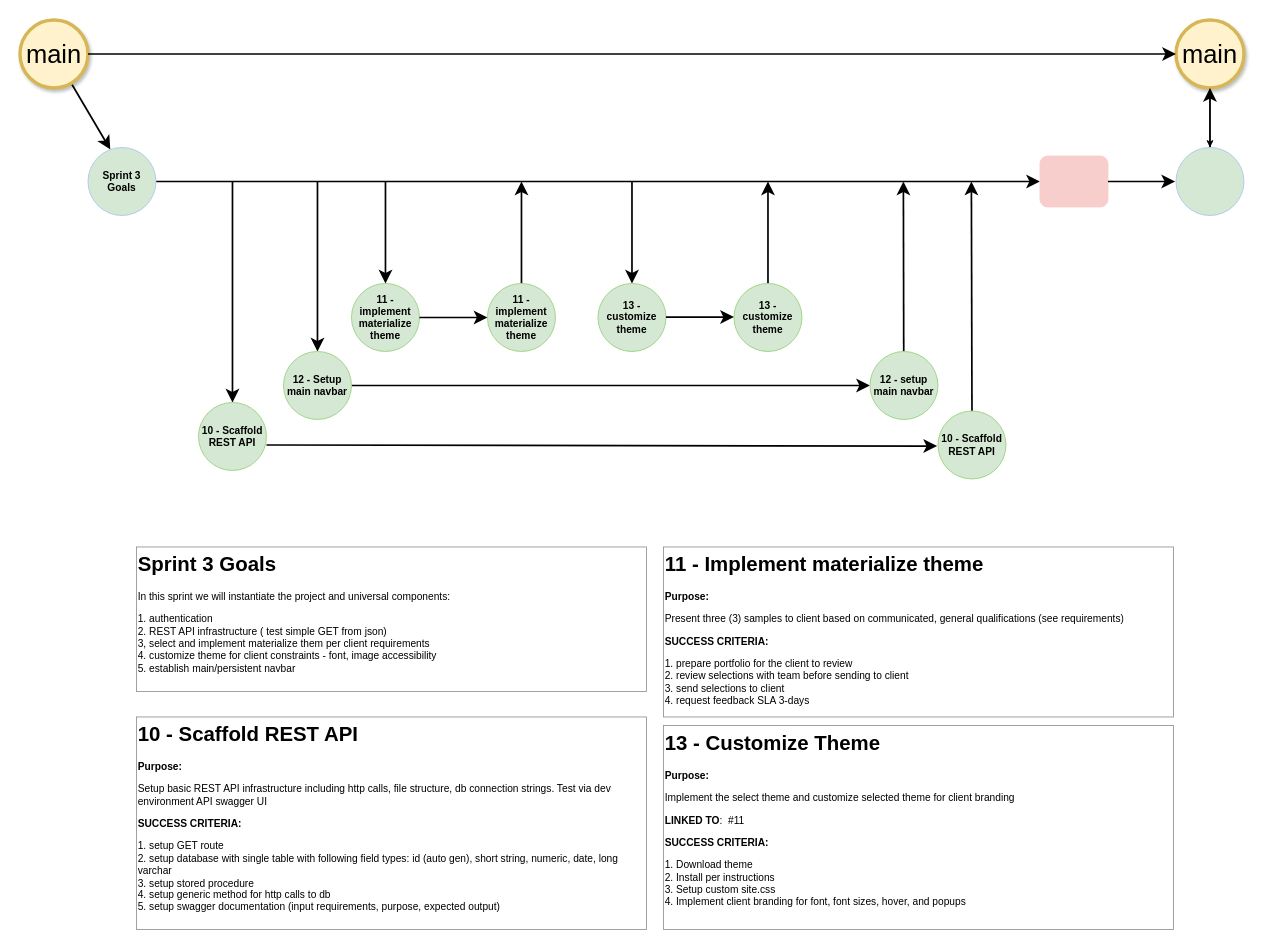
The diagram is 1265 pixels wide and 946 high, and some of its shapes have lost their labels. The centre of each missing label's shape, as x and y in pixels:
client review: the point at 1073,181
Sprint 2 Goals: the point at 1209,181
